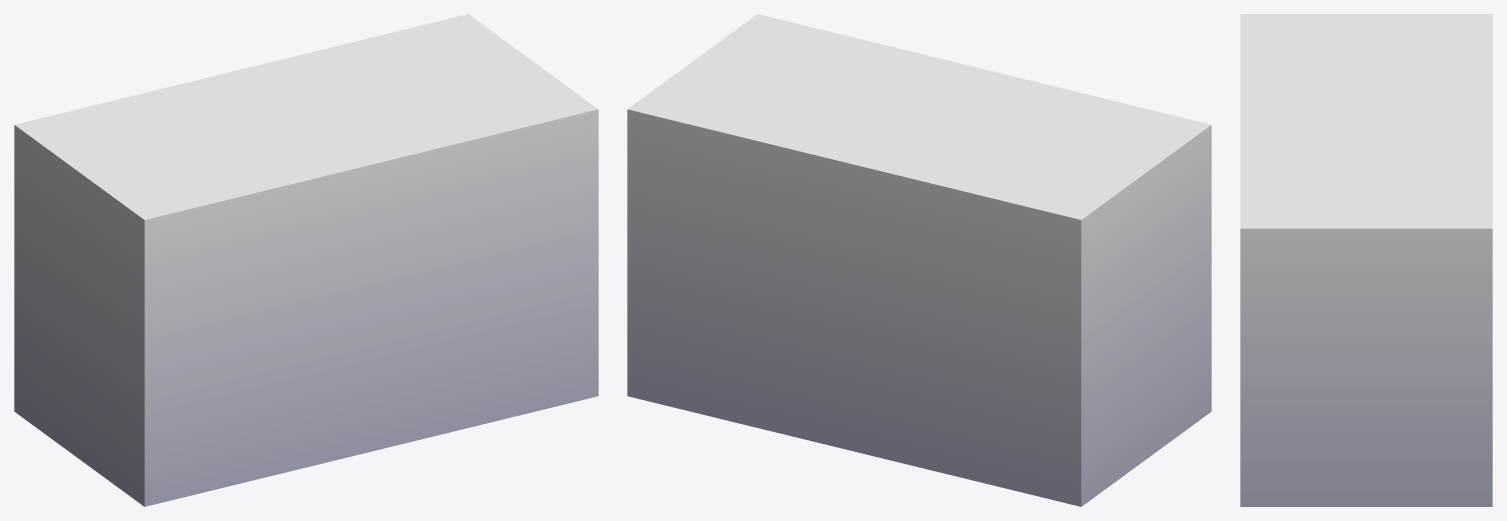
File: kenney-brick-none-lq-brick-1-x-2.glb
3 views of the same model, side by side, from view 1: azimuth 30°, elevation 25°; view 2: azimuth 150°, elevation 25°; view 3: azimuth 270°, elevation 25° (orthographic). The views are drawn at different scales.
Visible parts, largest first — view 1: none-lq-brick-1x2; view 2: none-lq-brick-1x2; view 3: none-lq-brick-1x2.
Part boxes in pixels (<box>): none-lq-brick-1x2: <box>14,14,598,506</box>; none-lq-brick-1x2: <box>627,14,1211,506</box>; none-lq-brick-1x2: <box>1240,14,1492,506</box>.
Bounding box in the file's own units: 0.159 × 0.096 × 0.079.
Materials: 1 (1 with a texture image).
